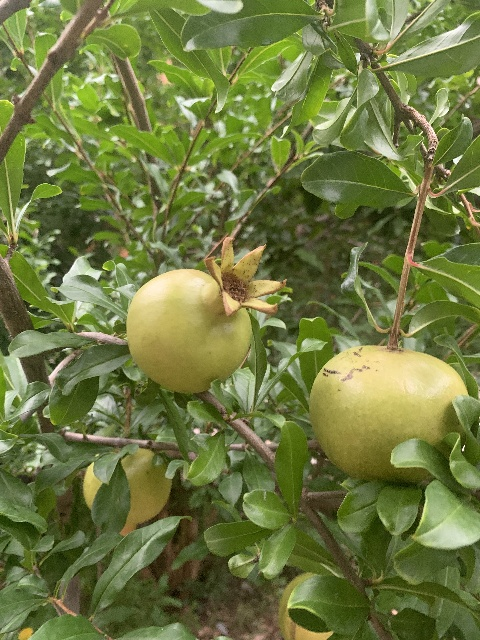mid-growth: (126, 235, 285, 394), (308, 345, 473, 489), (81, 446, 174, 536)
